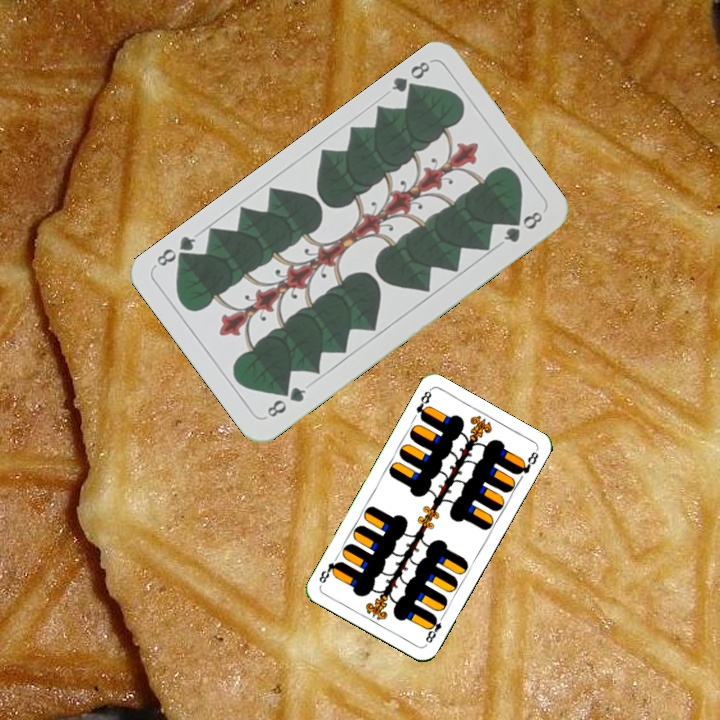E8: (421, 610, 447, 646), (412, 386, 434, 423)
G8: (387, 57, 433, 100), (262, 382, 309, 420)
